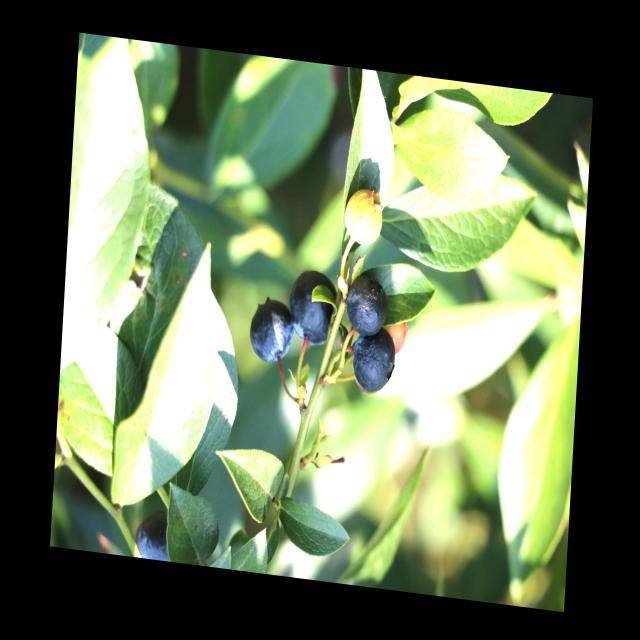blueberry: (284, 263, 345, 353), (243, 291, 302, 371), (348, 318, 400, 399), (340, 273, 391, 343), (128, 506, 180, 562)
blueberry-unripe: (339, 180, 387, 250)
